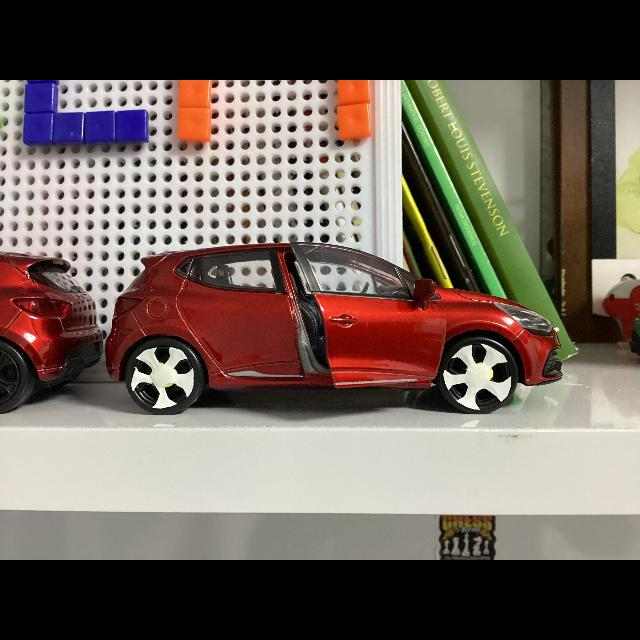Dogru_Jant: (0, 351, 20, 402)
Yanlis_Jant: (443, 342, 513, 412), (131, 346, 195, 410)
